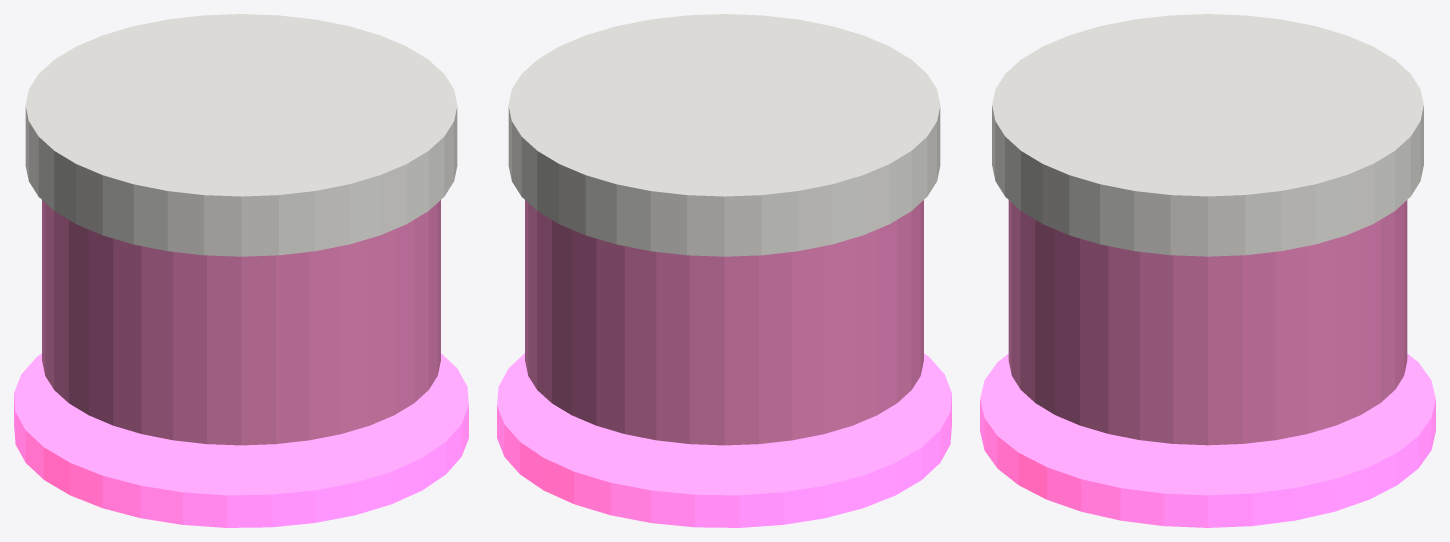
File: beauty_cream_jar.glb
3 renders of one model, left to right at view 1: azimuth 30°, elevation 25°; view 2: azimuth 150°, elevation 25°; view 3: azimuth 270°, elevation 25°, orthographic.
Visible parts, largest first — view 1: 03_08_Popular_Beauty_Cream_Jar_part_02, 03_08_Popular_Beauty_Cream_Jar_part_01, 03_08_Popular_Beauty_Cream_Jar_ROOT_base; view 2: 03_08_Popular_Beauty_Cream_Jar_part_02, 03_08_Popular_Beauty_Cream_Jar_part_01, 03_08_Popular_Beauty_Cream_Jar_ROOT_base; view 3: 03_08_Popular_Beauty_Cream_Jar_part_02, 03_08_Popular_Beauty_Cream_Jar_part_01, 03_08_Popular_Beauty_Cream_Jar_ROOT_base.
Boxes of the visible parts, x1,y1,x2,y2 form: 03_08_Popular_Beauty_Cream_Jar_part_02: [25, 14, 457, 256]; 03_08_Popular_Beauty_Cream_Jar_part_01: [42, 200, 440, 445]; 03_08_Popular_Beauty_Cream_Jar_ROOT_base: [14, 353, 468, 527]; 03_08_Popular_Beauty_Cream_Jar_part_02: [508, 14, 940, 256]; 03_08_Popular_Beauty_Cream_Jar_part_01: [525, 200, 923, 445]; 03_08_Popular_Beauty_Cream_Jar_ROOT_base: [497, 353, 951, 527]; 03_08_Popular_Beauty_Cream_Jar_part_02: [992, 14, 1423, 256]; 03_08_Popular_Beauty_Cream_Jar_part_01: [1008, 200, 1407, 445]; 03_08_Popular_Beauty_Cream_Jar_ROOT_base: [980, 353, 1435, 527].
Size of the model in its own units: 0.76 by 0.6008 by 0.76.
